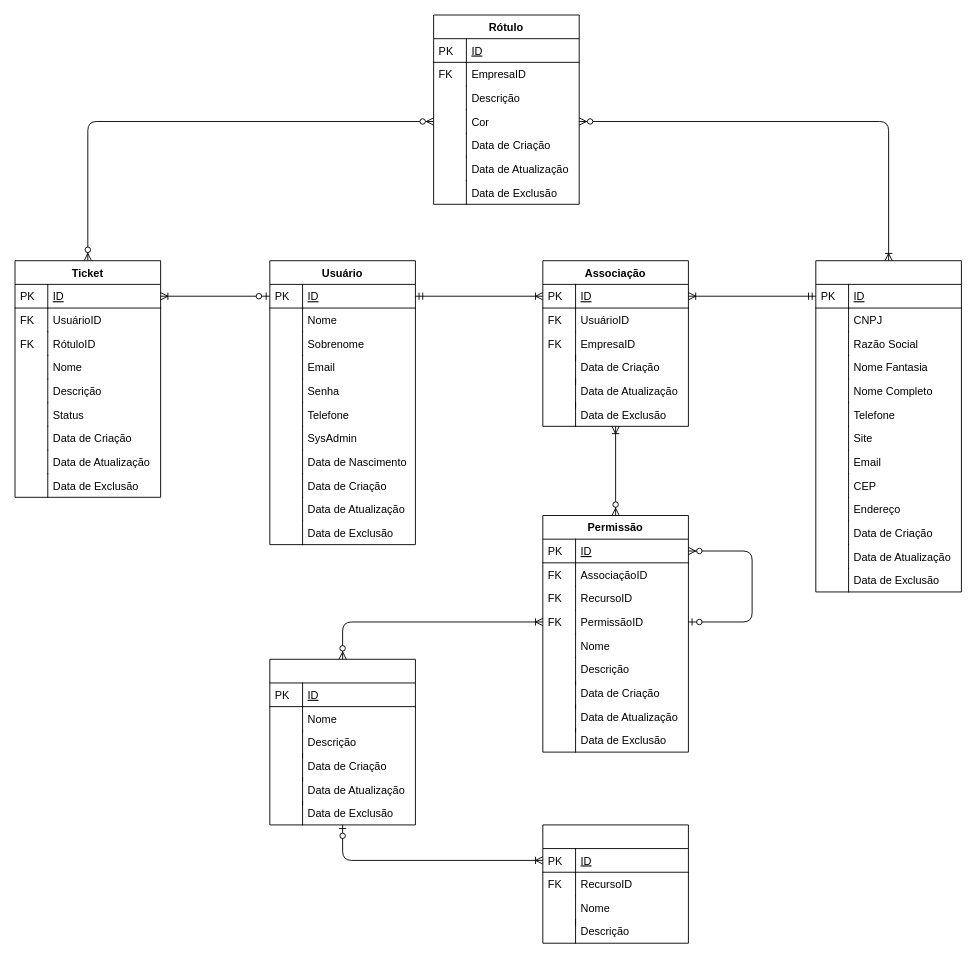
This 976x958 diagram has some shape labels left out. Here are the shapes that lost their labels. From the top down, the box of each, then its label:
(815, 260, 961, 592): Empresa
(269, 658, 415, 825): Recurso
(542, 824, 688, 943): Sub-Recurso
